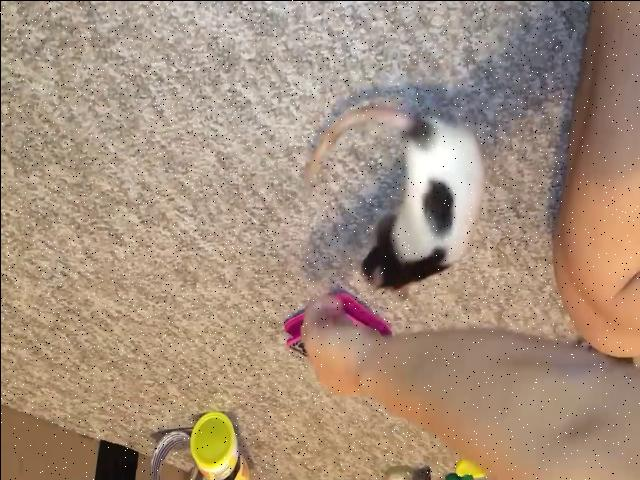Tikus: (300, 94, 487, 296)
